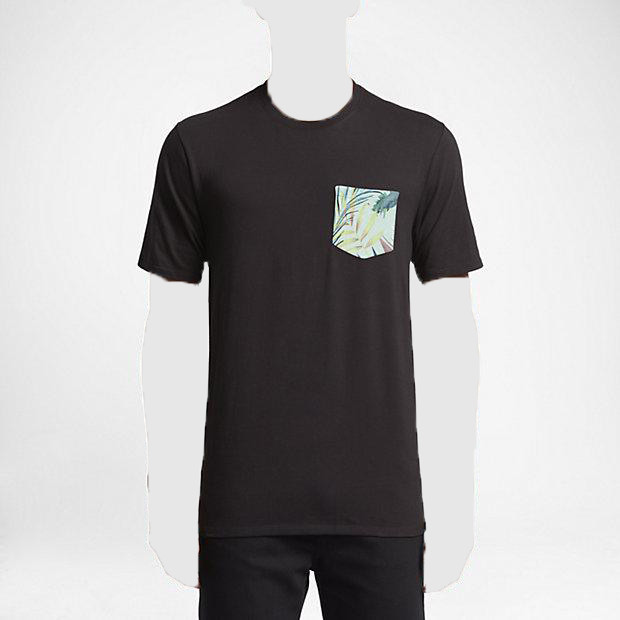teeshirt: (134, 80, 484, 539)
